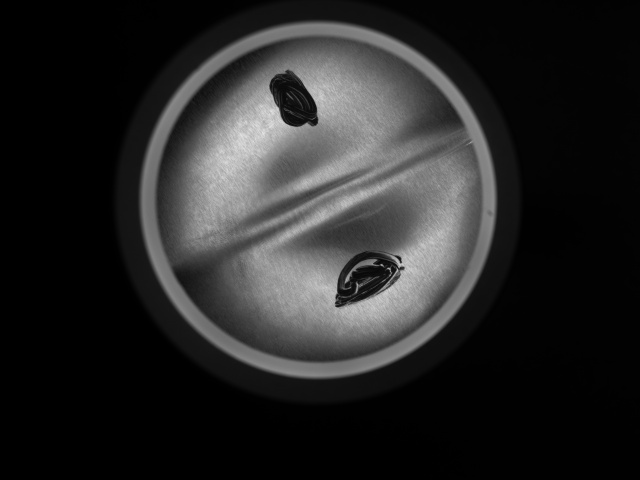zang_wu: (333, 248, 408, 308), (266, 69, 319, 128)
zhe_zhou: (193, 73, 442, 329)
